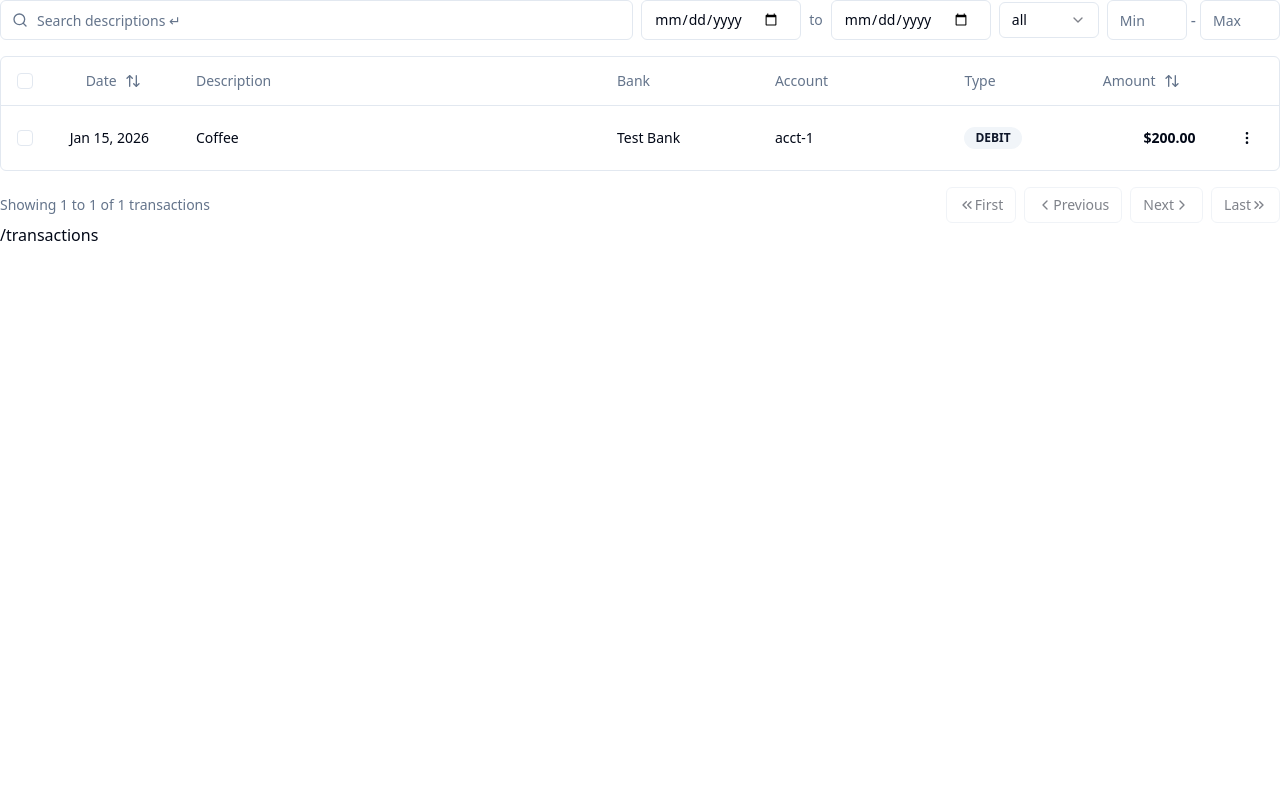
Test: TransactionTable permission gating › passes only the selected-currency projection to row deletion confirmation
Click the button named "open menu" at [1247, 138], box [1231, 122, 1263, 154]
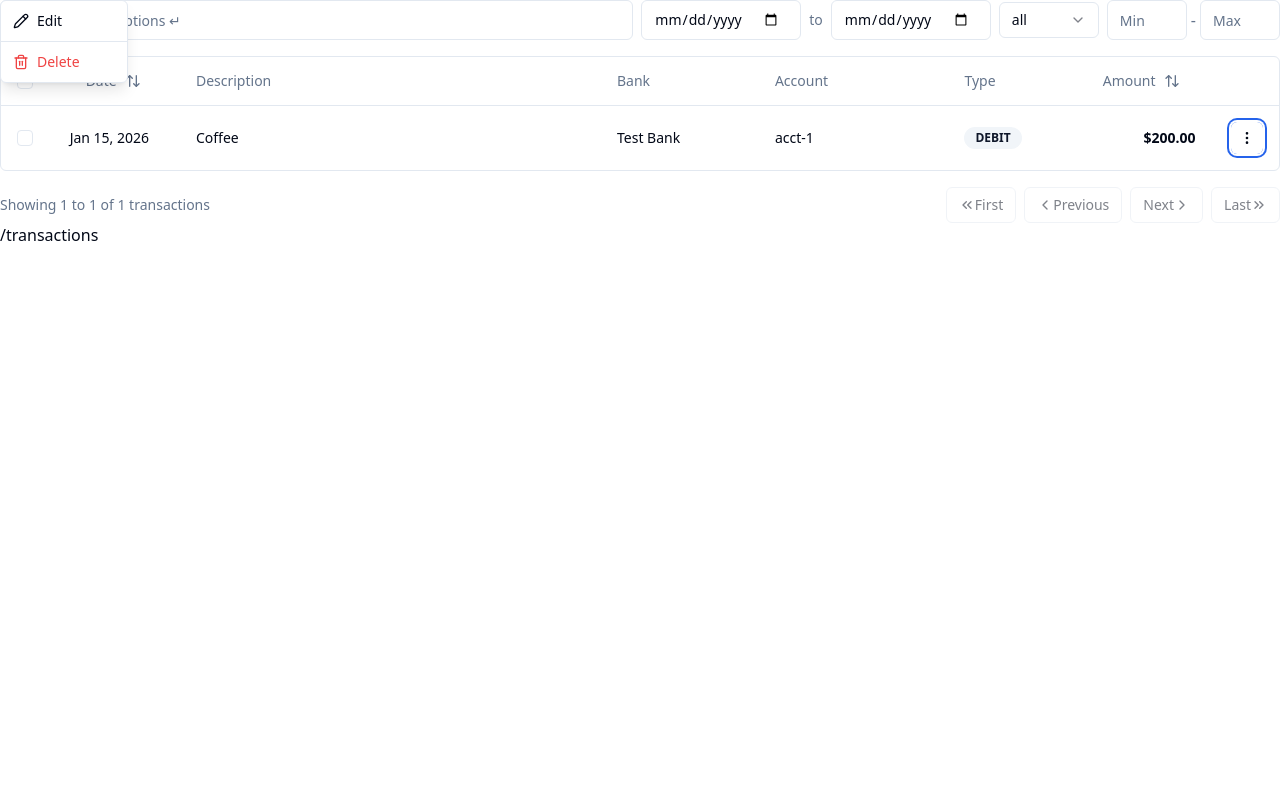
Click the menu item "Delete" at [64, 62], box [5, 46, 123, 78]
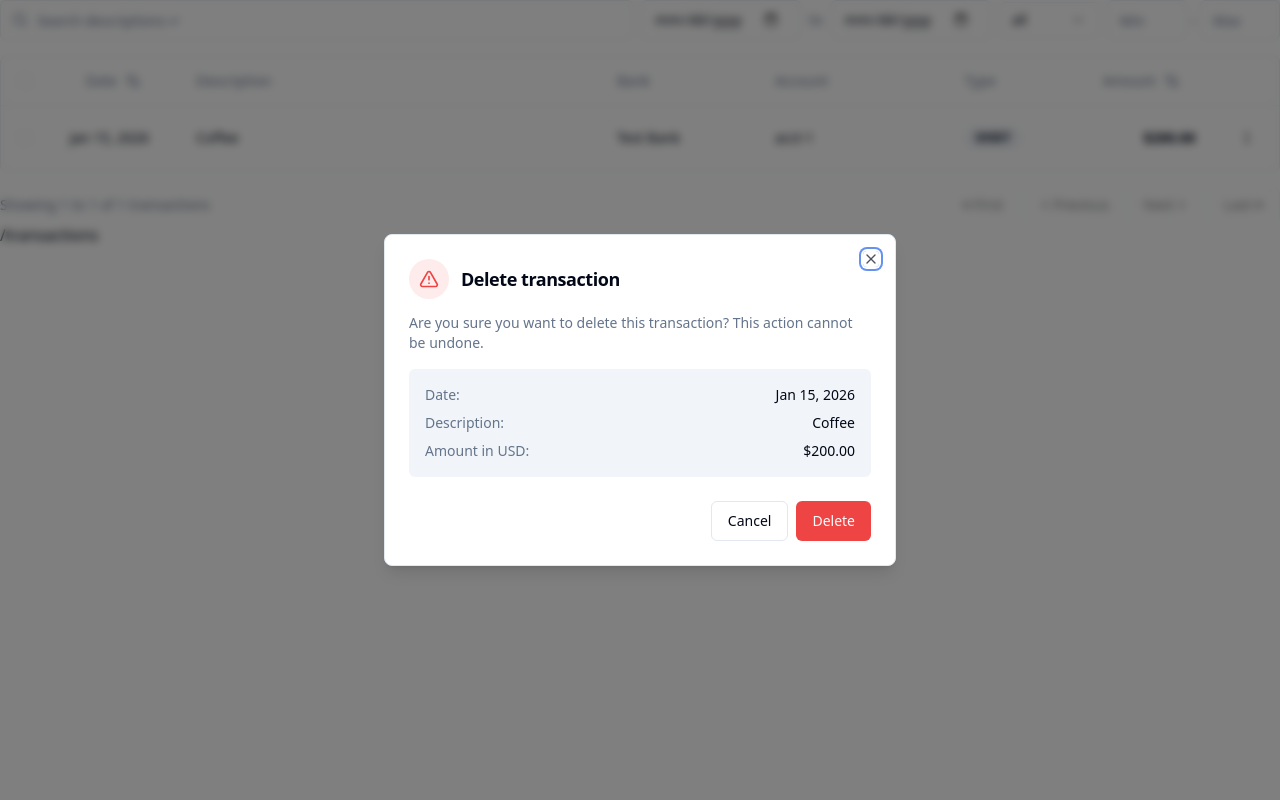
expect the text "$200.00" is shown: met, box [803, 441, 855, 461]
